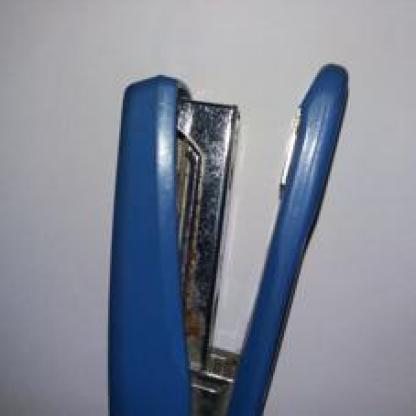stapler: (88, 55, 361, 415)
